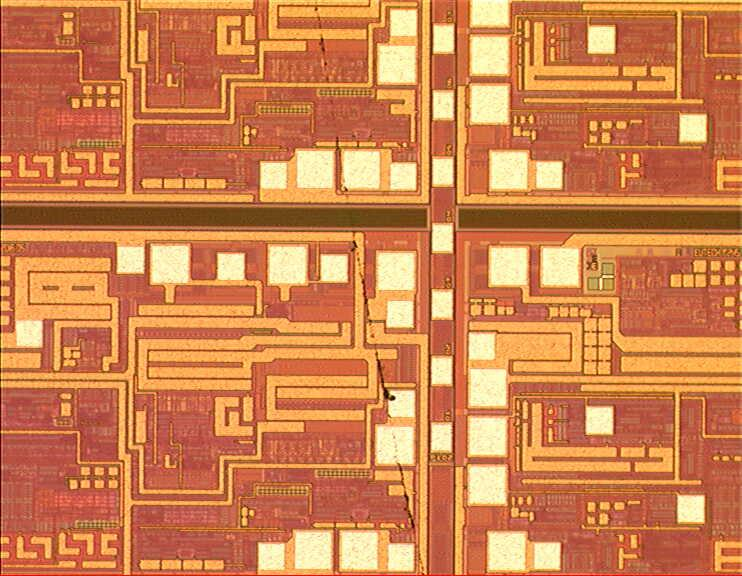SCRATCH: (305, 1, 437, 576)
